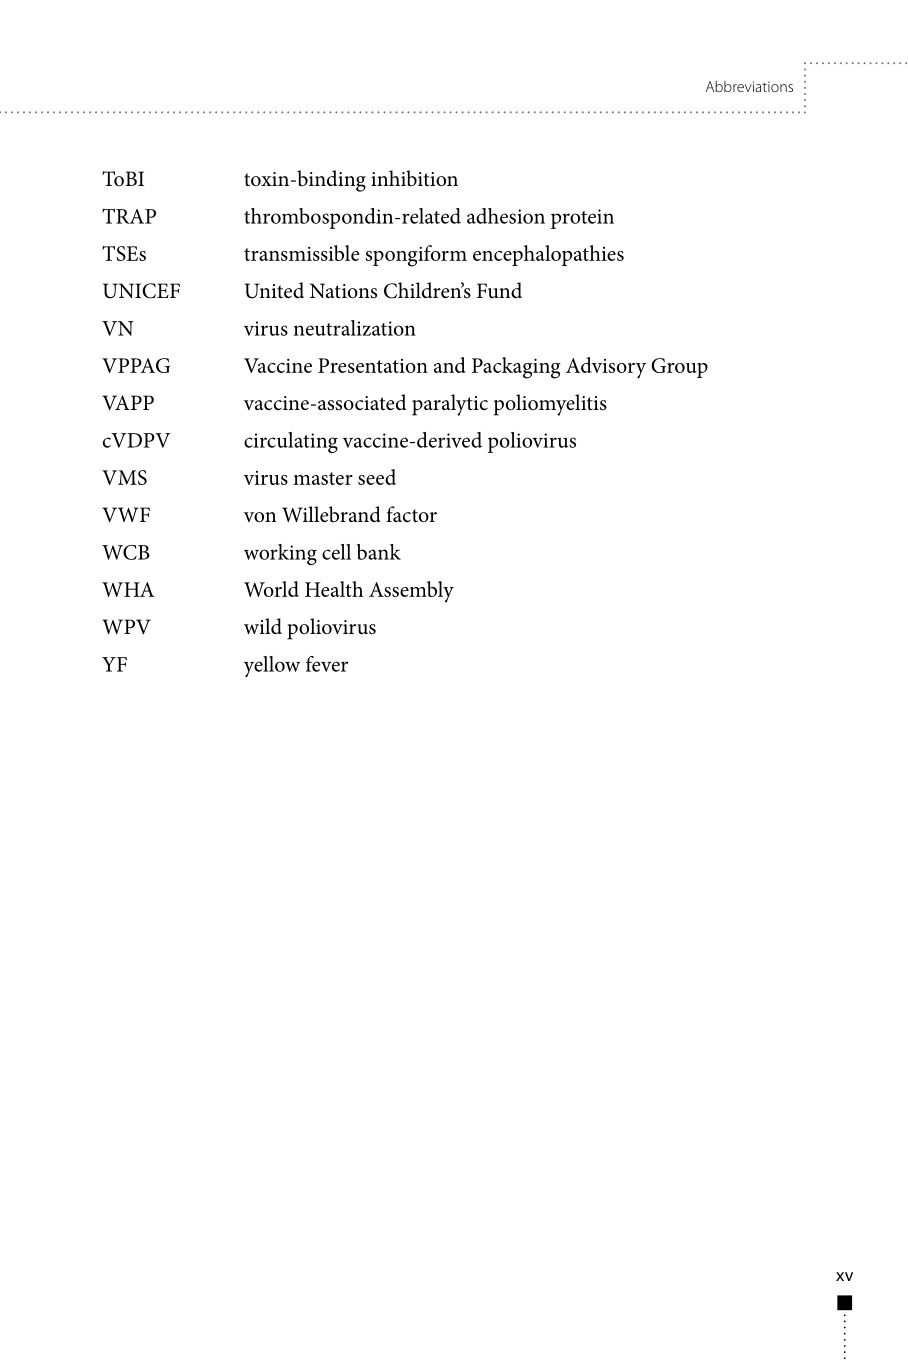nolines: (100, 164, 712, 681)
